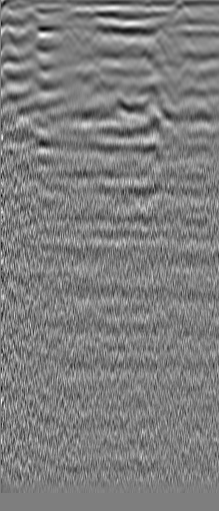오수: (15, 24, 42, 45)
우수: (174, 34, 201, 59)
